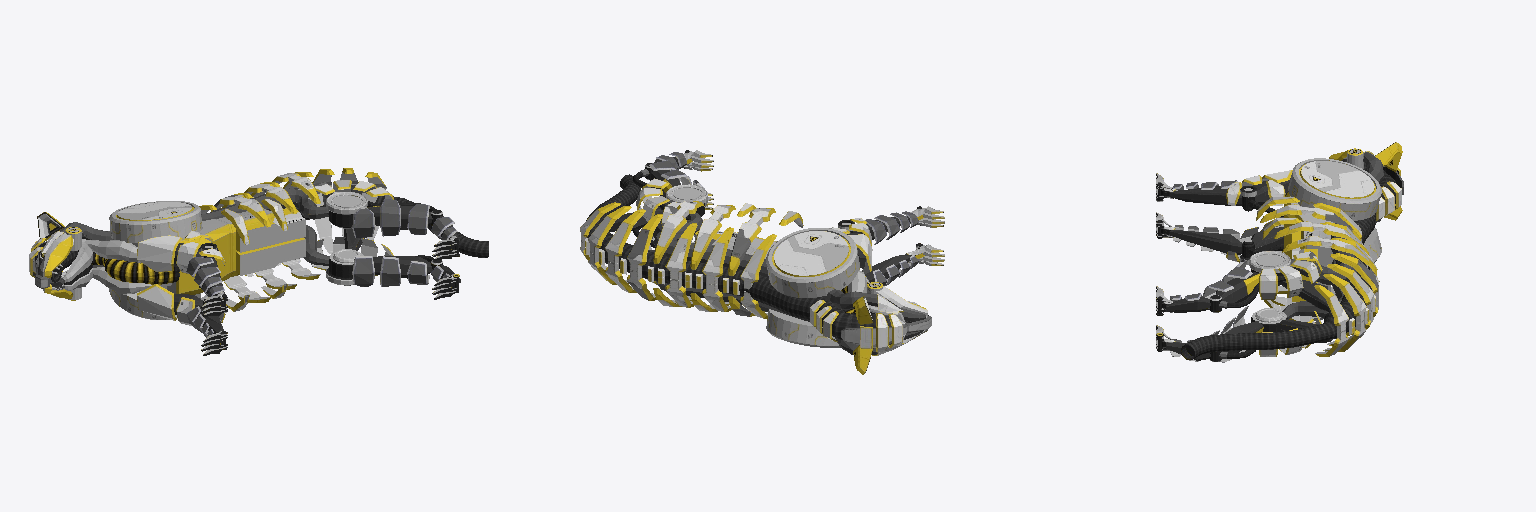
3 renders of one model, left to right at view 1: azimuth 30°, elevation 25°; view 2: azimuth 150°, elevation 25°; view 3: azimuth 270°, elevation 25°, orthographic.
Visible parts, largest first — view 1: unjoined; view 2: unjoined; view 3: unjoined.
Boxes of the visible parts, x1,y1,x2,y2 form: unjoined: [29, 168, 488, 355]; unjoined: [580, 150, 944, 374]; unjoined: [1156, 142, 1403, 362].
Bounding box in the file's own units: 2.01 × 0.5069 × 1.13.
3 materials, 2 textured.